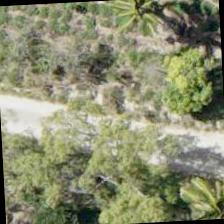Kelapa_Sawit: (98, 0, 192, 55), (178, 161, 223, 221)
